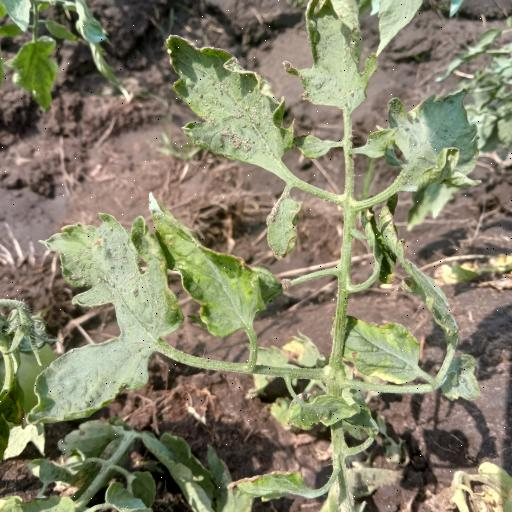Tomato_Brown_Spots: (28, 217, 177, 431), (161, 30, 303, 183), (138, 200, 292, 340), (286, 0, 384, 112), (332, 309, 429, 390)
